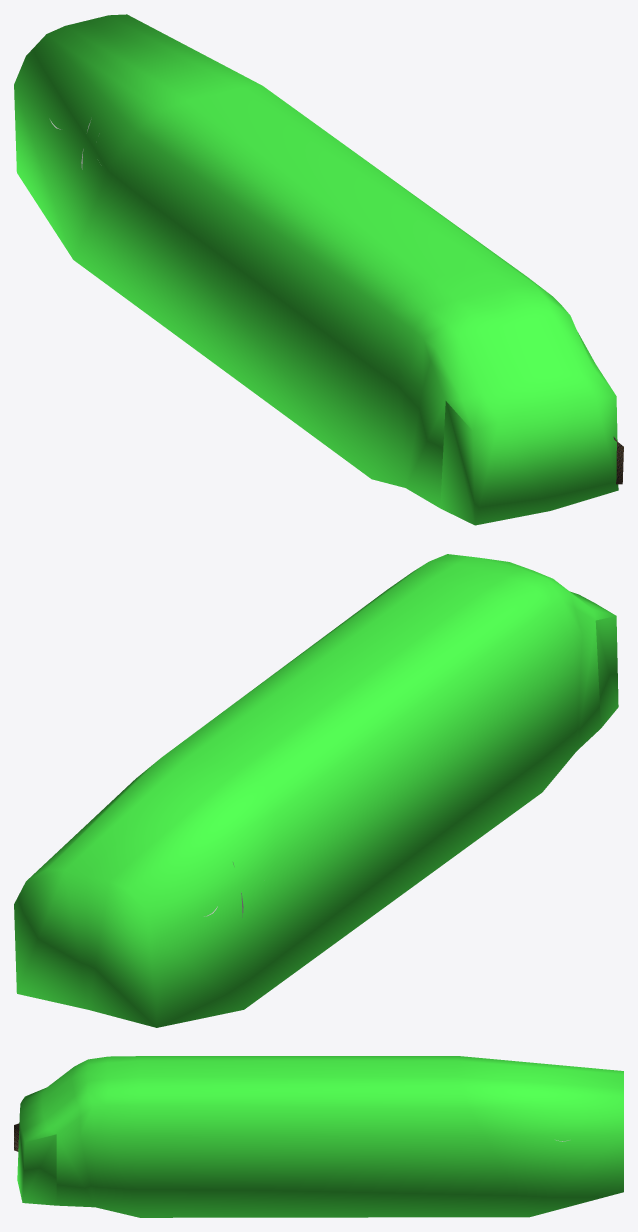
File: KINGAIR_350I_interior_LOD2.gltf
The picture shows the model from 3 angles, top to bottom: view 1: azimuth 30°, elevation 25°; view 2: azimuth 150°, elevation 25°; view 3: azimuth 270°, elevation 25°; orthographic projection. The views are drawn at different scales.
Visible parts, largest first — view 1: OCCLUDER; view 2: OCCLUDER; view 3: OCCLUDER.
Boxes of the visible parts, bbox=[...] form: OCCLUDER: bbox=[14, 14, 618, 525]; OCCLUDER: bbox=[14, 554, 618, 1027]; OCCLUDER: bbox=[17, 1056, 623, 1217].
Size of the model in its own units: 1.6 by 1.66 by 7.55.
